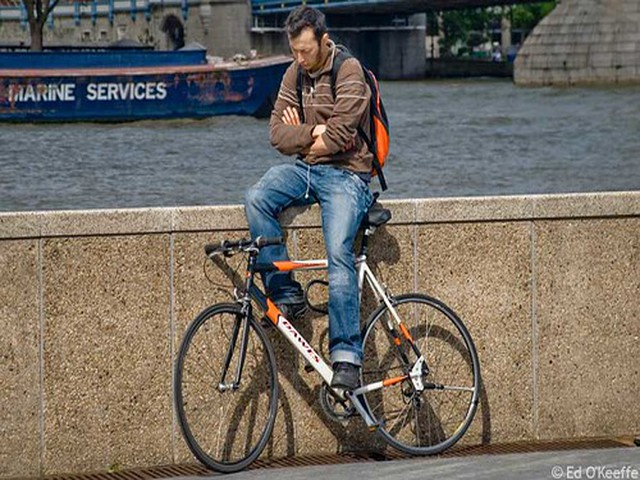Person: (250, 2, 397, 398)
